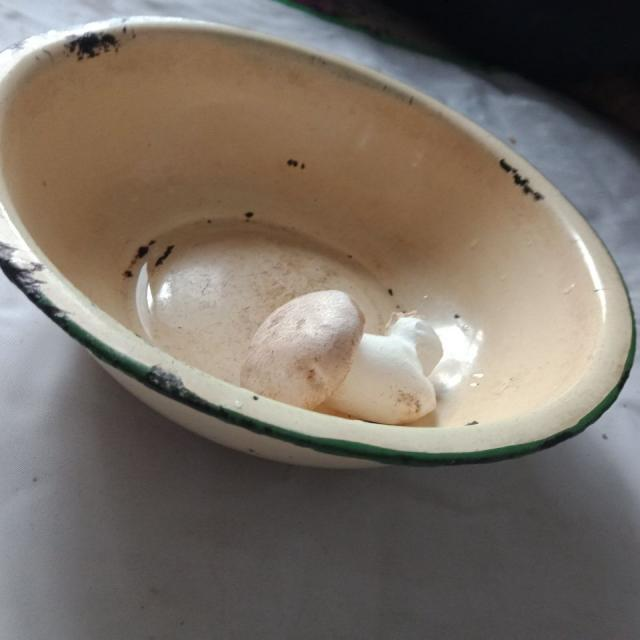Pleurotus cystidiosus: (245, 290, 444, 426)
